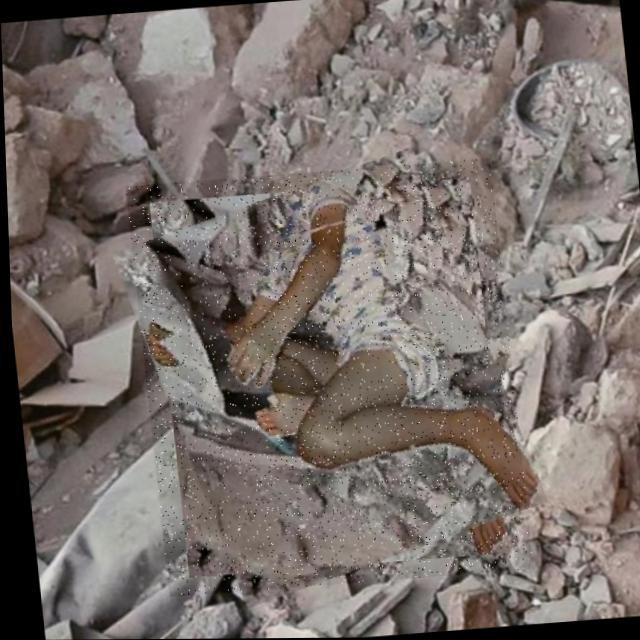Person in Rubble: (123, 157, 529, 596)
